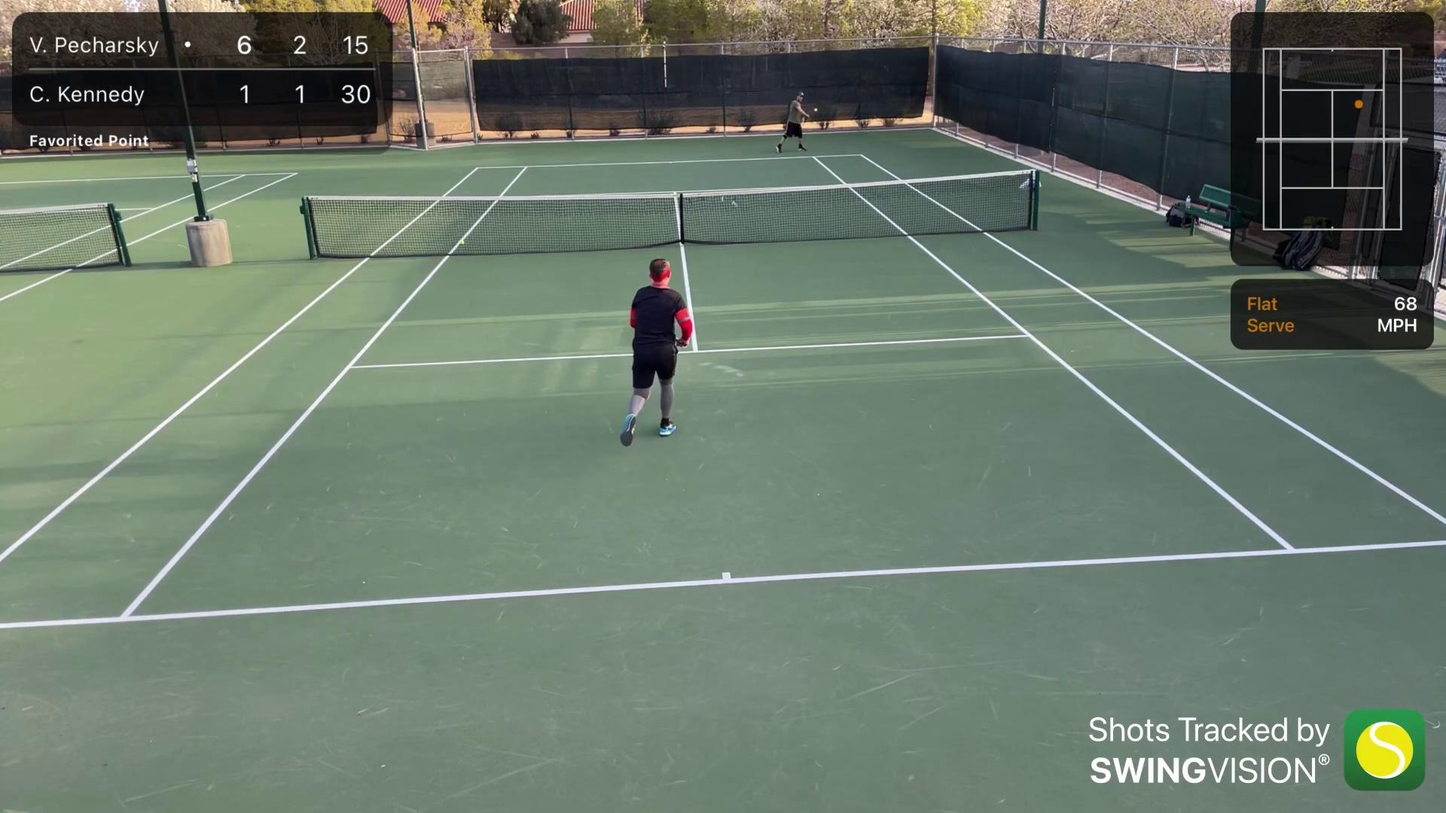ball: (814, 107, 818, 113)
